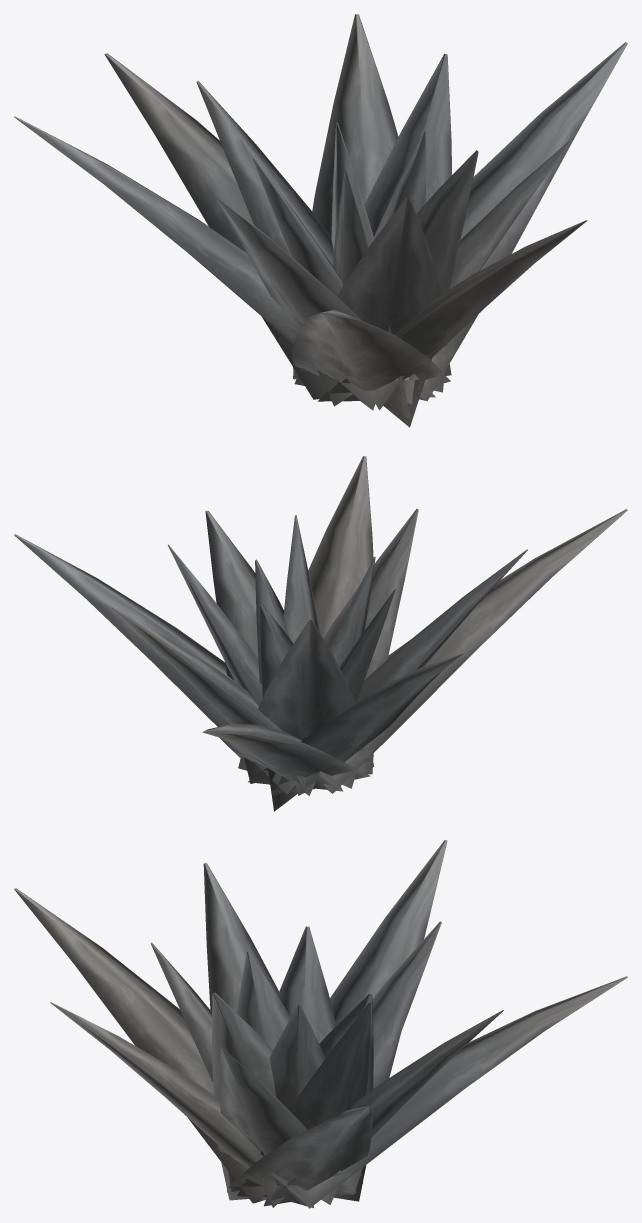
File: rosette_l0.gltf
3 renders of one model, top to bottom at view 1: azimuth 30°, elevation 25°; view 2: azimuth 150°, elevation 25°; view 3: azimuth 270°, elevation 25°, orthographic. The views are drawn at different scales.
Visible parts, largest first — view 1: rosette_l0; view 2: rosette_l0; view 3: rosette_l0.
Boxes of the visible parts, <box> form: rosette_l0: <box>14,14,627,427</box>; rosette_l0: <box>14,456,627,811</box>; rosette_l0: <box>14,840,627,1208</box>.
Bounding box in the file's own units: 1.35 × 0.6631 × 1.47.
1 material, 1 textured.
